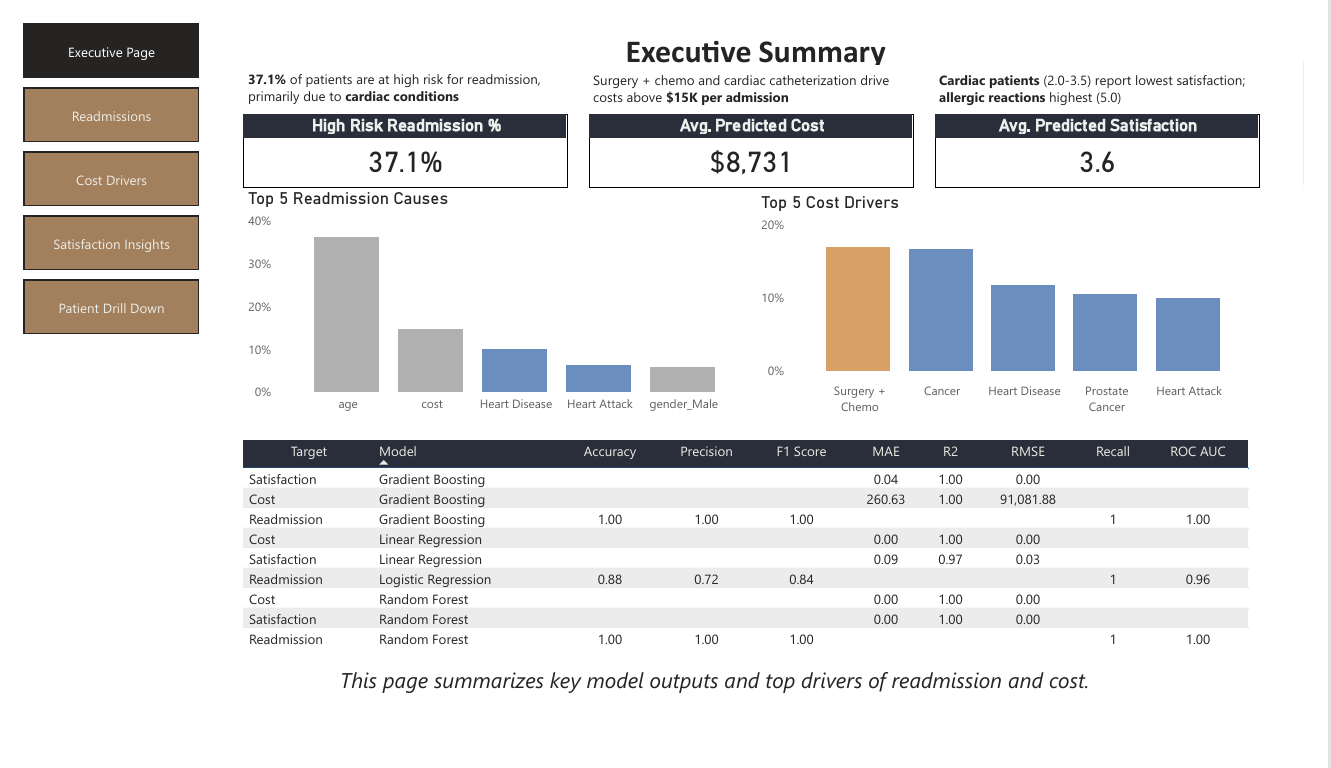

The dashboard page shown, as its layout file describes it:
{"tool":"powerbi","page":{"name":"Executive Page","canvas":[1280,720],"ordinal":0},"visuals":[{"type":"columnChart","title":"Top 5  Readmission Causes","fields":{"Category":["Readmission Importance.Clean Feature"],"Y":["Avg(Readmission Importance.importance)"]},"box":[219,164,513,234],"z":0},{"type":"card","title":"High Risk Readmission %","fields":{"Values":["Predictions.High Risk Readmission %"]},"box":[219,90,324.7,74],"z":1000,"group":"g1"},{"type":"columnChart","title":"Top 5 Cost Drivers","fields":{"Category":["Cost Importance.Clean Feature"],"Y":["Avg(Cost Importance.importance)"]},"box":[732,168,504,230],"z":1000},{"type":"card","title":"Avg. Predicted Cost","fields":{"Values":["Predictions.Avg Predicted Cost"]},"box":[564.9,90,324.7,74],"z":2000,"group":"g1"},{"type":"tableEx","fields":{"Values":["Model Comparison.Target","Model Comparison.Model","Model Comparison.Accuracy","Model Comparison.Precision","Model Comparison.F1 Score","Model Comparison.MAE","Model Comparison.R2","Model Comparison.RMSE","Model Comparison.Recall","Model Comparison.ROC AUC"]},"box":[213.7,412.3,1030.3,223.4],"z":2000},{"type":"group","id":"g1","title":"Group 1","box":[219,90,1016.6,74],"z":3000},{"type":"card","title":"Avg. Predicted Satisfaction","fields":{"Values":["Predictions.Avg Predicted Satisfaction"]},"box":[910.9,90,324.7,74],"z":3000,"group":"g1"},{"type":"textbox","box":[311.2,635.8,841.5,48.8],"z":4000},{"type":"textbox","box":[219,3,1025,52],"z":5000},{"type":"pageNavigator","box":[0,0,174.7,313],"z":6000},{"type":"textbox","box":[219,41,325,48],"z":7000},{"type":"textbox","box":[564,42,325,48],"z":8000},{"type":"textbox","box":[910,42,325,48],"z":9000}]}

Visuals, with their boxes on the page's 1280x720 design canvas (x1, y1, x2, y2). These are canvas units, not pixel positions in the 1331x768 screenshot, which may show the page scaled, cropped or inside an application window:
"Top 5  Readmission Causes" columnChart: box=[219, 164, 732, 398]
"High Risk Readmission %" card: box=[219, 90, 544, 164]
"Top 5 Cost Drivers" columnChart: box=[732, 168, 1236, 398]
"Avg. Predicted Cost" card: box=[565, 90, 890, 164]
tableEx - Model Comparison.Target x Model Comparison.Model: box=[214, 412, 1244, 636]
"Group 1" group: box=[219, 90, 1236, 164]
"Avg. Predicted Satisfaction" card: box=[911, 90, 1236, 164]
textbox: box=[311, 636, 1153, 685]
textbox: box=[219, 3, 1244, 55]
pageNavigator: box=[0, 0, 175, 313]
textbox: box=[219, 41, 544, 89]
textbox: box=[564, 42, 889, 90]
textbox: box=[910, 42, 1235, 90]
